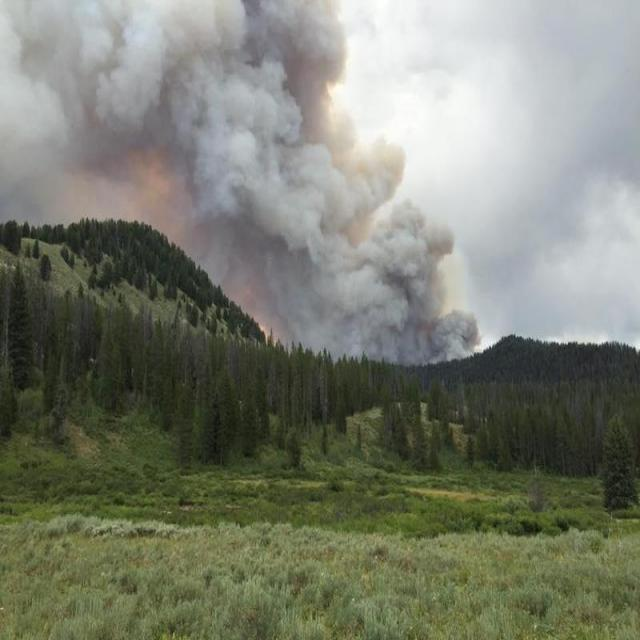Smoke: (131, 16, 482, 367), (16, 0, 170, 133)
